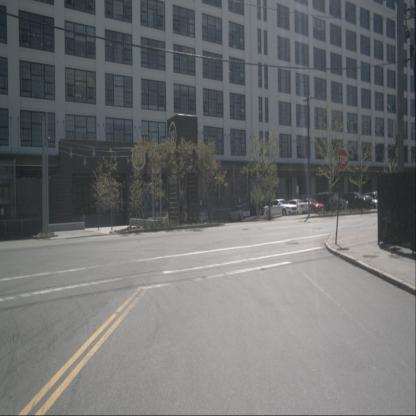vehicle-car: (264, 198, 297, 218), (313, 192, 336, 211), (298, 198, 325, 214), (284, 199, 309, 215), (344, 192, 364, 212), (325, 194, 348, 210), (228, 205, 250, 221), (361, 192, 380, 209), (190, 208, 208, 223), (355, 195, 372, 210), (362, 191, 378, 206)
vehicle-truck: (183, 205, 195, 224)
